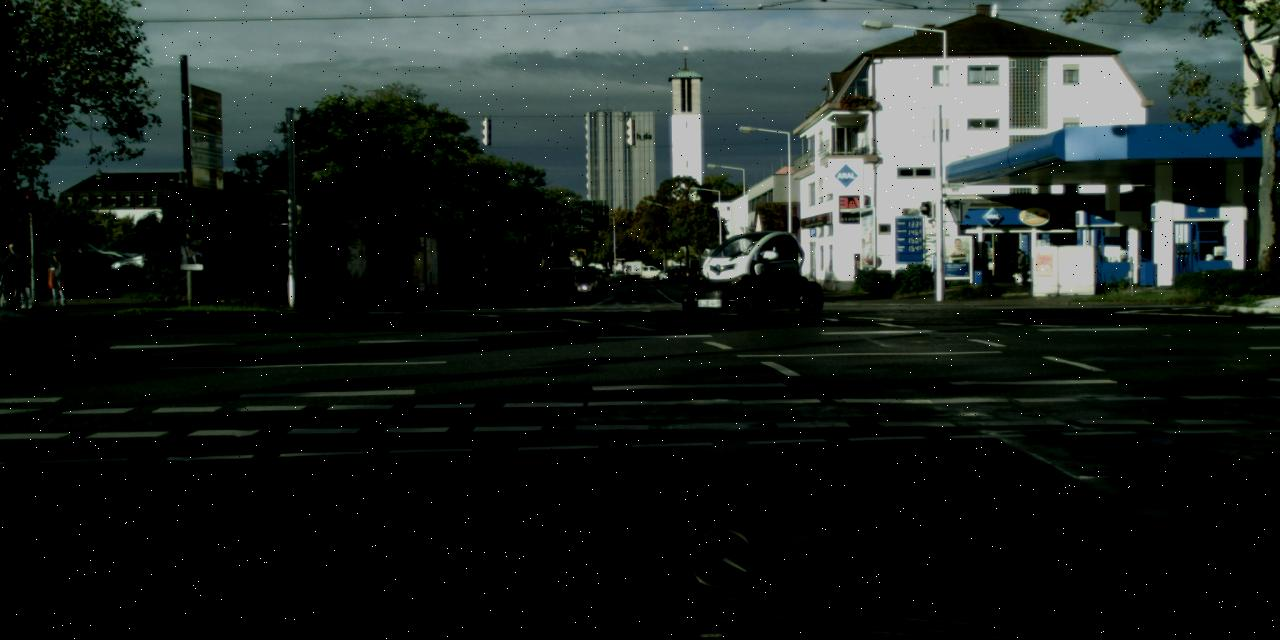ped: (44, 251, 69, 311), (1, 242, 23, 300), (1013, 247, 1028, 283)
